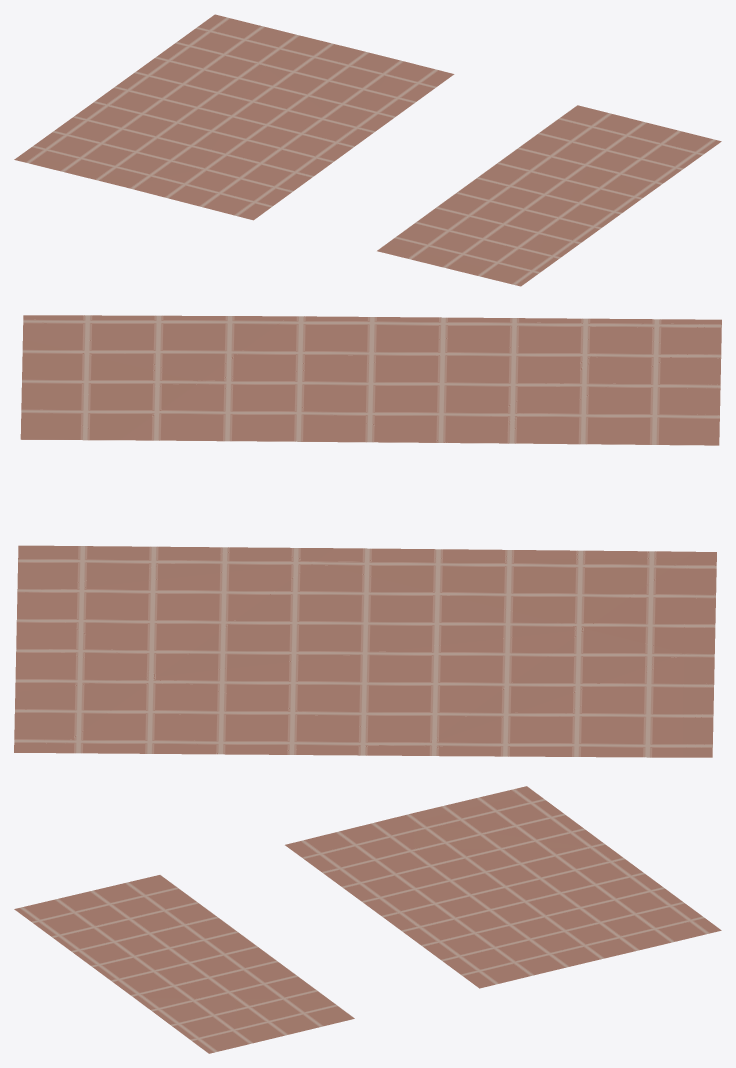
The picture shows the model from 3 angles, top to bottom: view 1: azimuth 30°, elevation 25°; view 2: azimuth 150°, elevation 25°; view 3: azimuth 270°, elevation 25°; orthographic projection. The views are drawn at different scales.
Parts seen in each view (by area): view 1: courtyard; view 2: courtyard; view 3: courtyard.
Part boxes in pixels (box(x1,y1,x2,y2)): courtyard: box(14, 14, 721, 286); courtyard: box(14, 315, 721, 757); courtyard: box(14, 786, 721, 1053).
Size of the model in its own units: 78.67 by 0.3375 by 87.71.
Materials: 1 (1 with a texture image).
